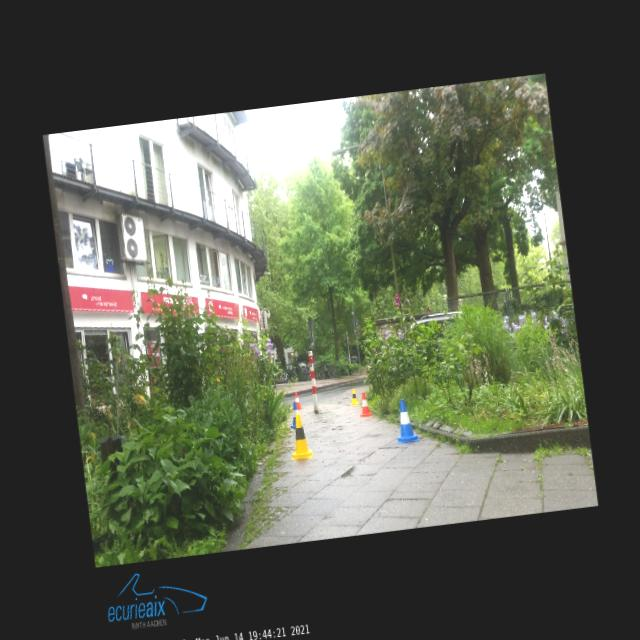blue_cone: (393, 398, 419, 443), (288, 402, 298, 428)
orange_cone: (358, 391, 372, 416), (295, 391, 302, 409)
yellow_cone: (286, 412, 313, 460), (349, 387, 358, 404)
